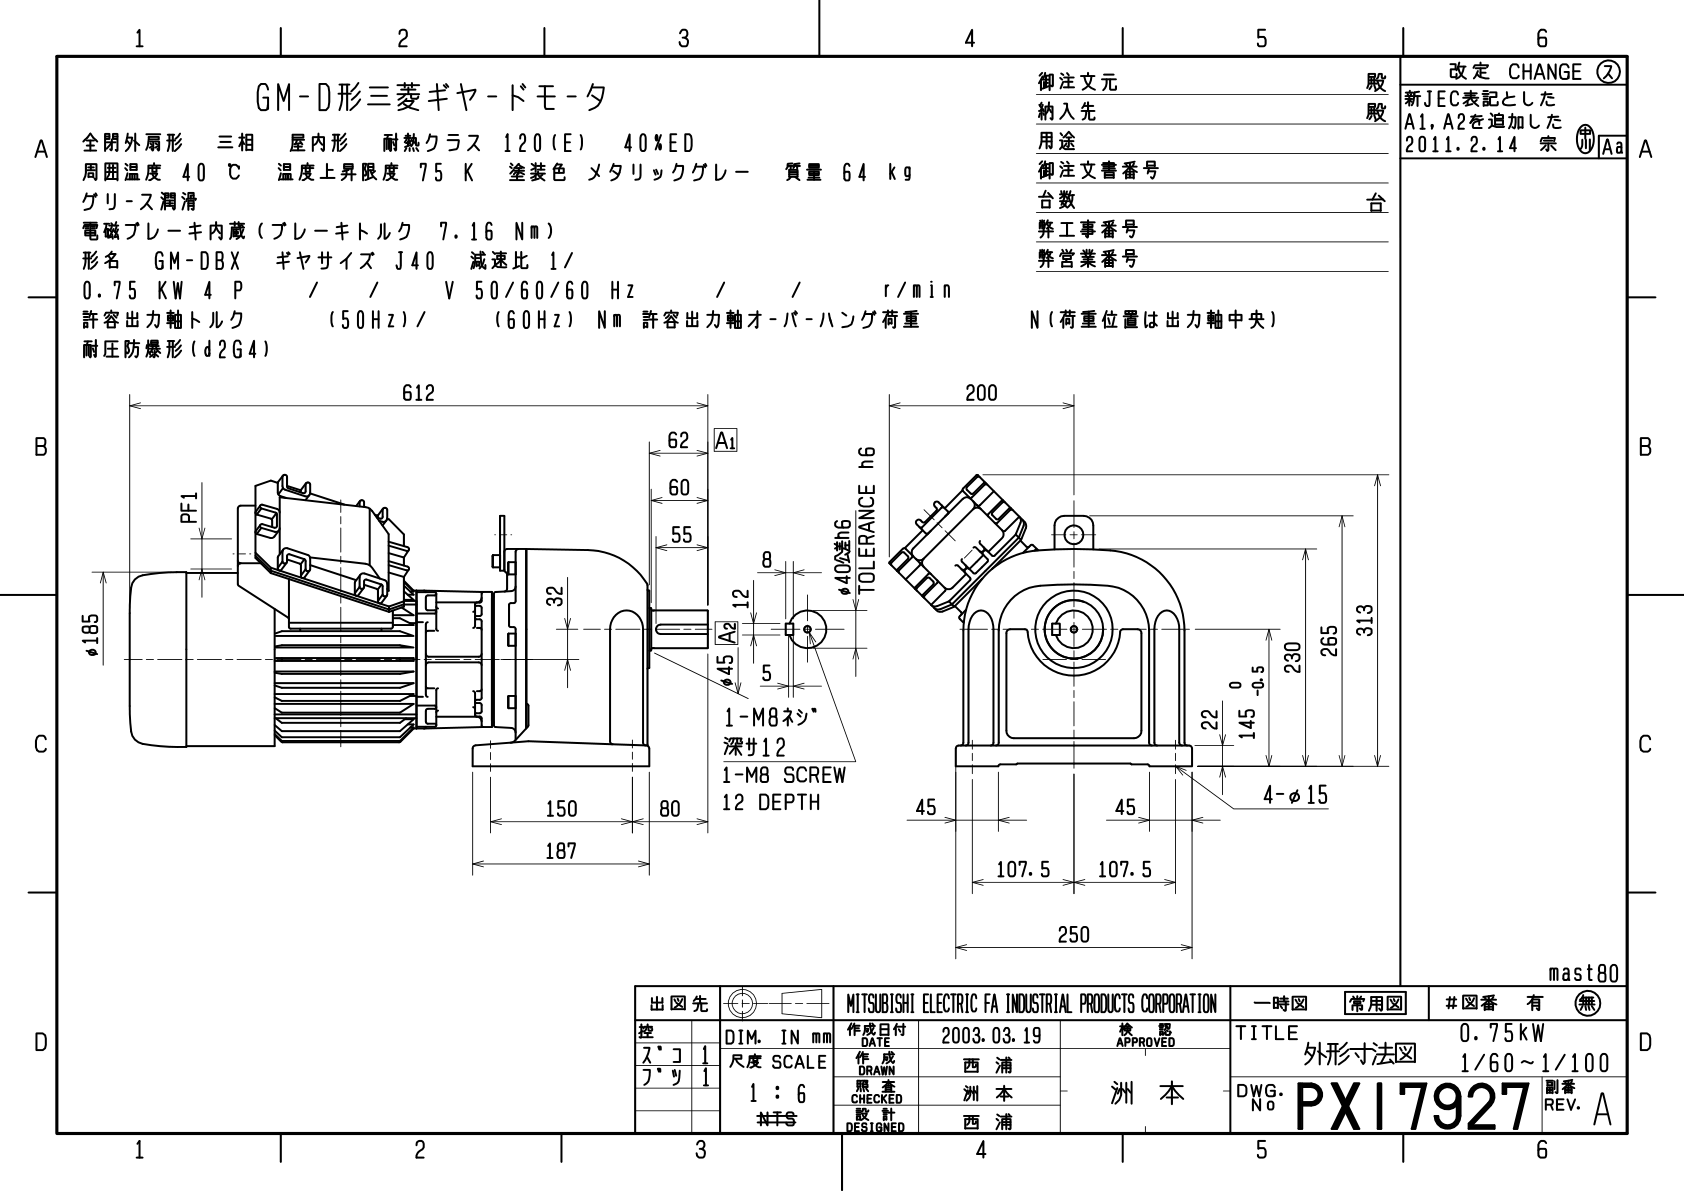GM_D_耐圧屋内_三相_脚: (77, 365, 1392, 971)
